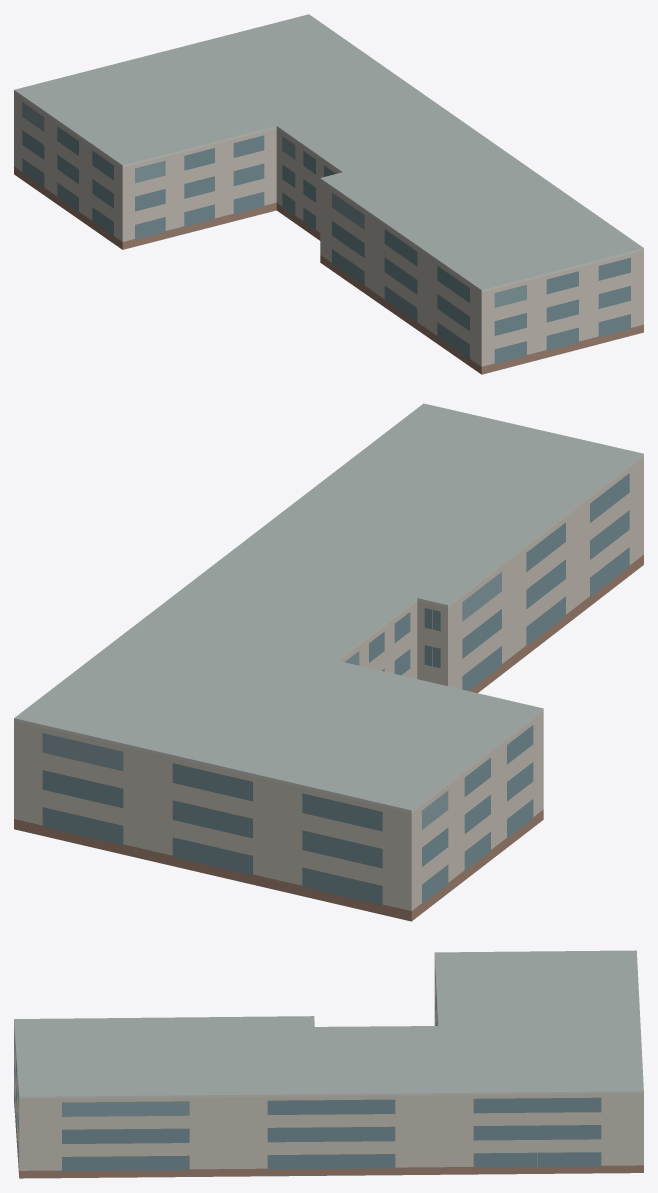
File: survey-upis-32457583.glb
The picture shows the model from 3 angles, top to bottom: view 1: azimuth 30°, elevation 25°; view 2: azimuth 150°, elevation 25°; view 3: azimuth 270°, elevation 25°; orthographic projection. The views are drawn at different scales.
Visible parts, largest first — view 1: survey-upis-32457583.tmp; view 2: survey-upis-32457583.tmp; view 3: survey-upis-32457583.tmp.
Boxes of the visible parts, bbox=[...] form: survey-upis-32457583.tmp: bbox=[14, 14, 643, 374]; survey-upis-32457583.tmp: bbox=[14, 403, 643, 921]; survey-upis-32457583.tmp: bbox=[14, 950, 643, 1178].
Size of the model in its own units: 35.17 by 9.15 by 63.96.
